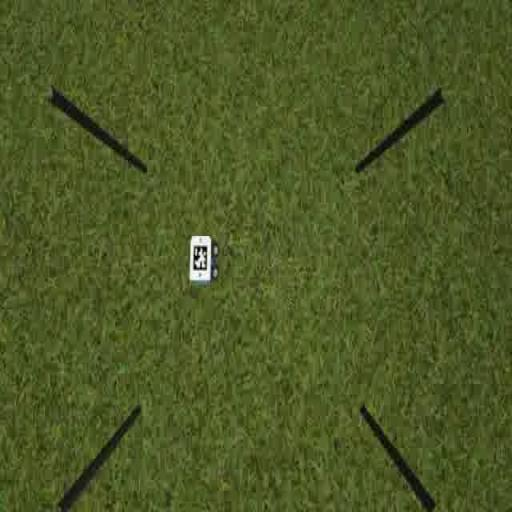UGV: (188, 236, 220, 286)
